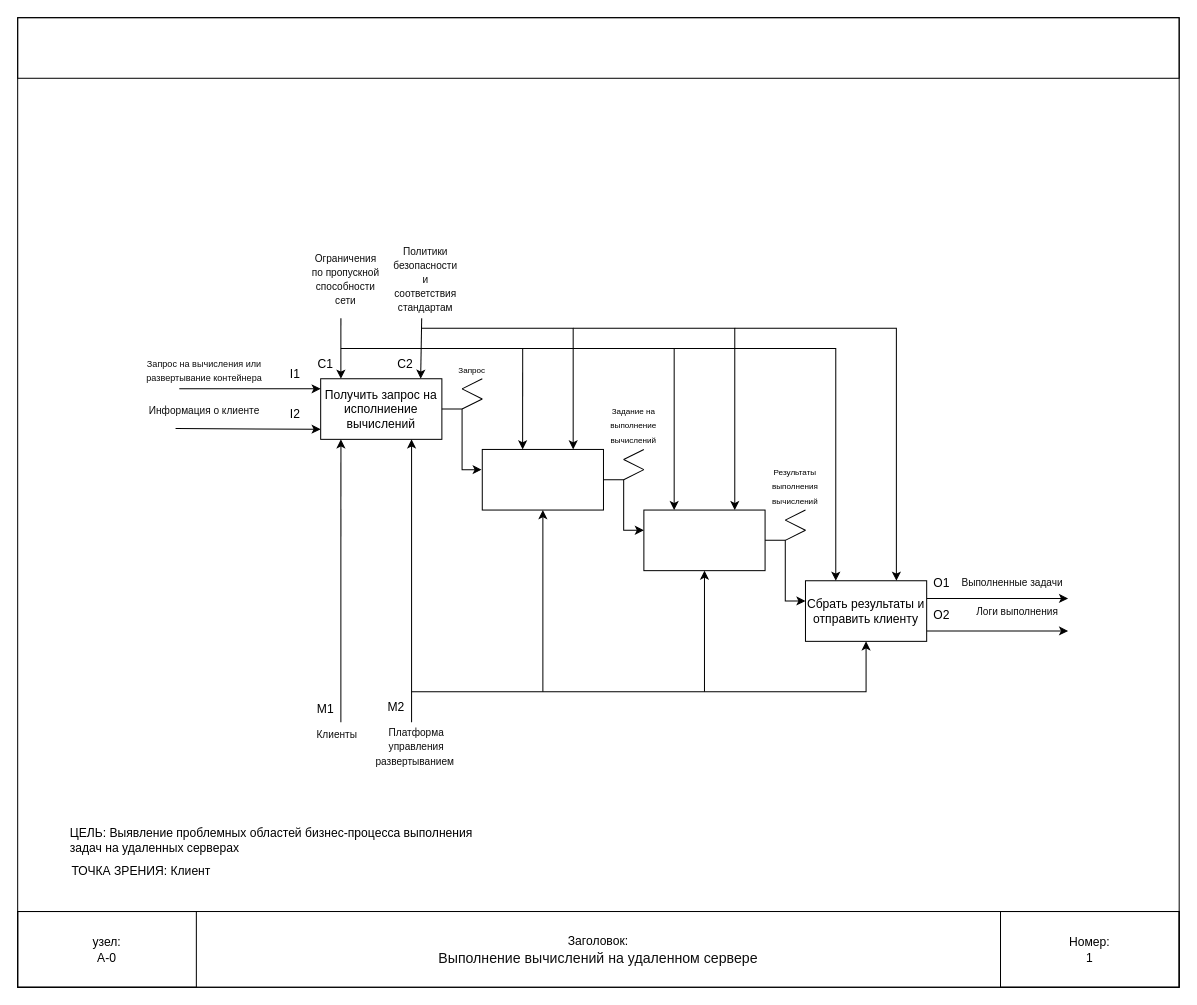
This 1197x1005 diagram has some shape labels left out. Here are the shapes that lost their labels. From the top down, the centre of each, then its label:
At point 598,47: "IDEF0 (TO-BE)".
At point 542,479: "Выделить ресурсы на исполнение запроса".
At point 704,540: "Выполненить вычисления".
